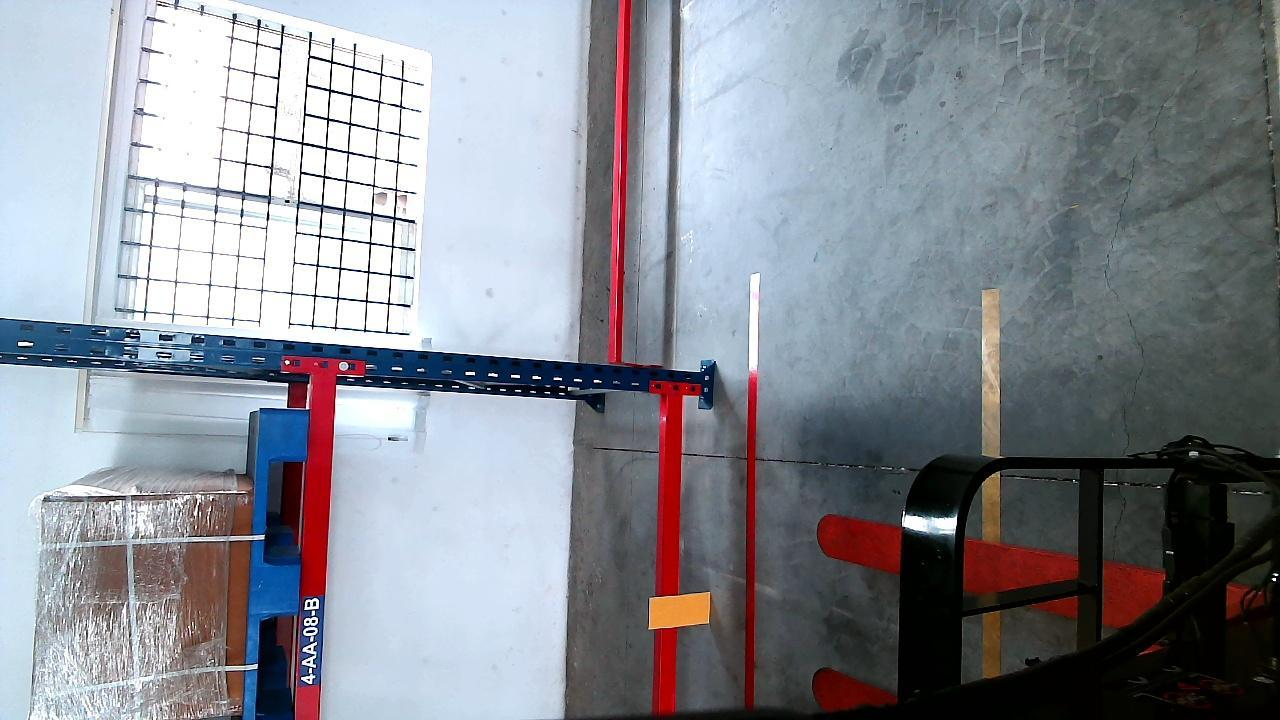red_line: (746, 273, 764, 713)
yellow_line: (981, 290, 1002, 678)
